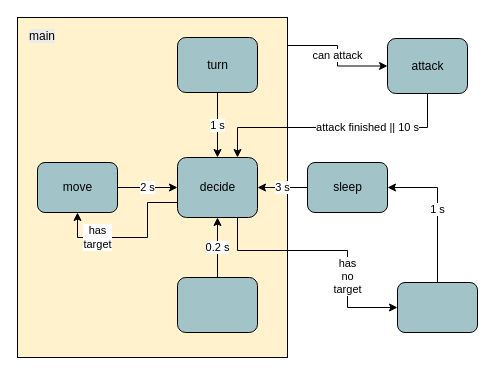
Some shapes in this 495 by 375 pixel diagram are drawn without their labels. Each missing label, with the centre of its shape:
"scan" goes at point 437,307.
"wait" goes at point 217,304.
